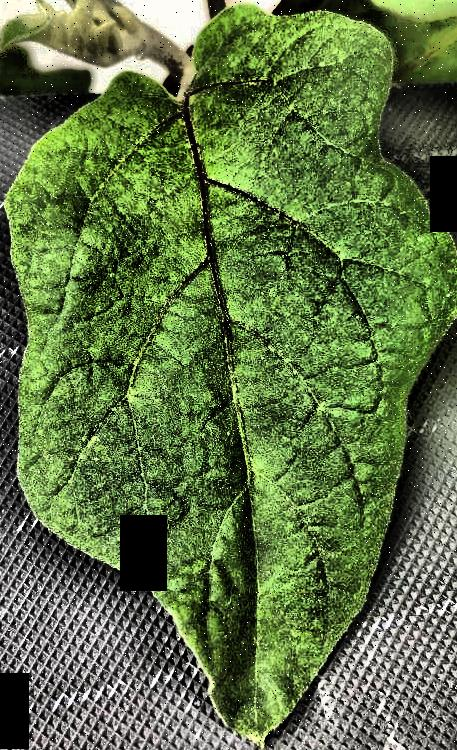HEALTHY: (1, 0, 457, 750)
